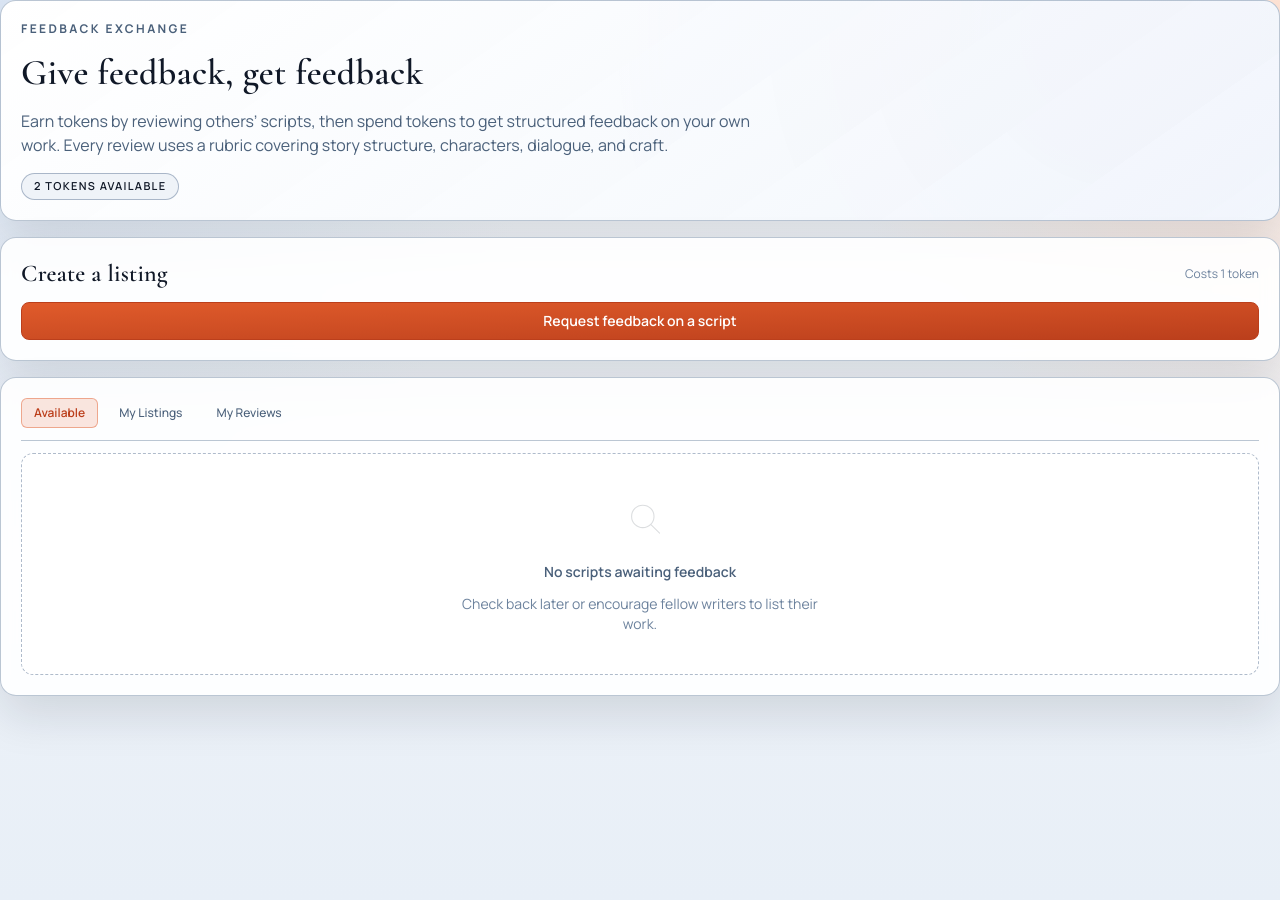
FeedbackPage additional coverage › shows the signed-in my listings empty state
Click the button "My Listings".
click(151, 412)  # box 106,398 -> 196,428
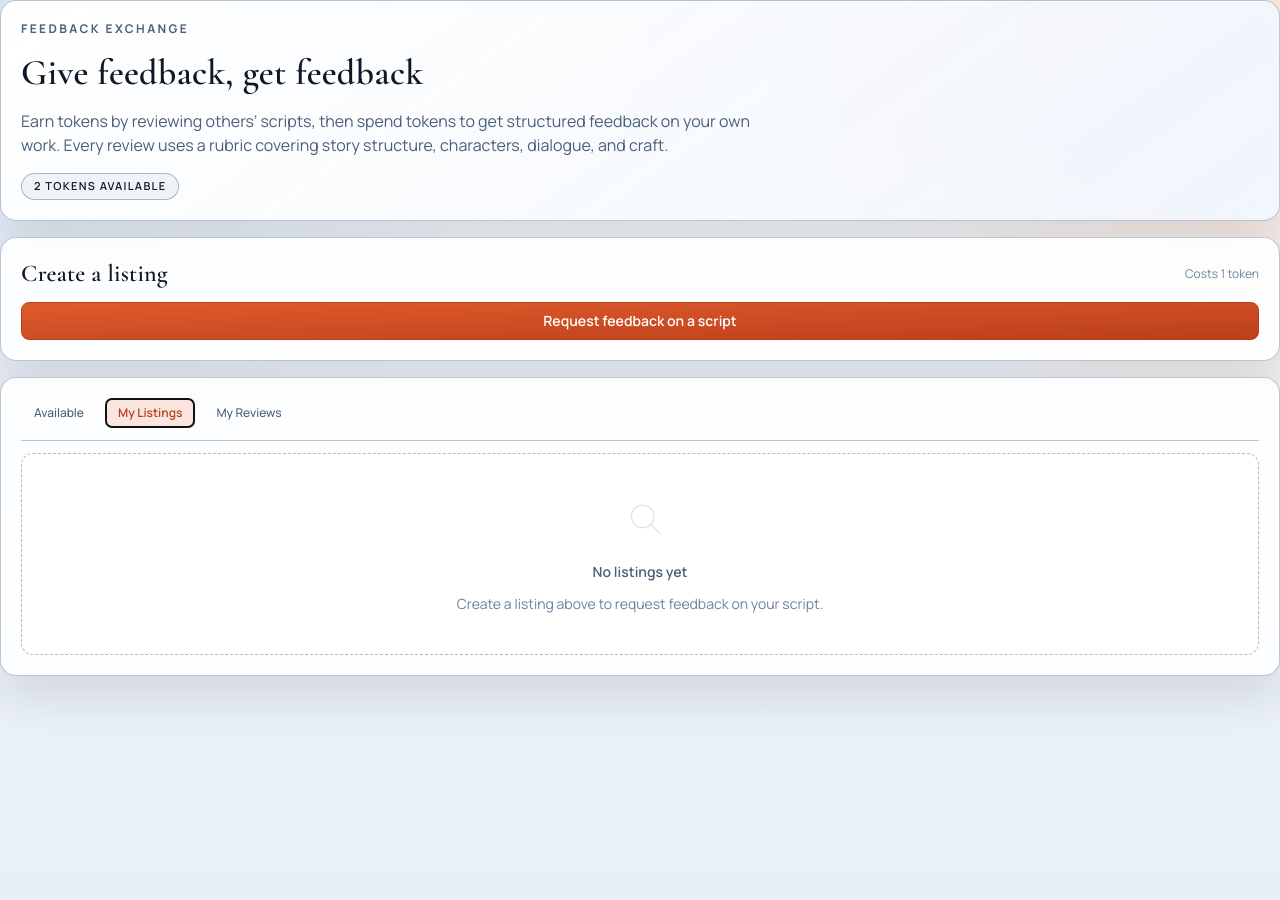
Expected: the text "No listings yet" is shown, 593,562 -> 687,582
Expected: the text "Create a listing above to request feedback on your script." is shown, 457,594 -> 823,614
